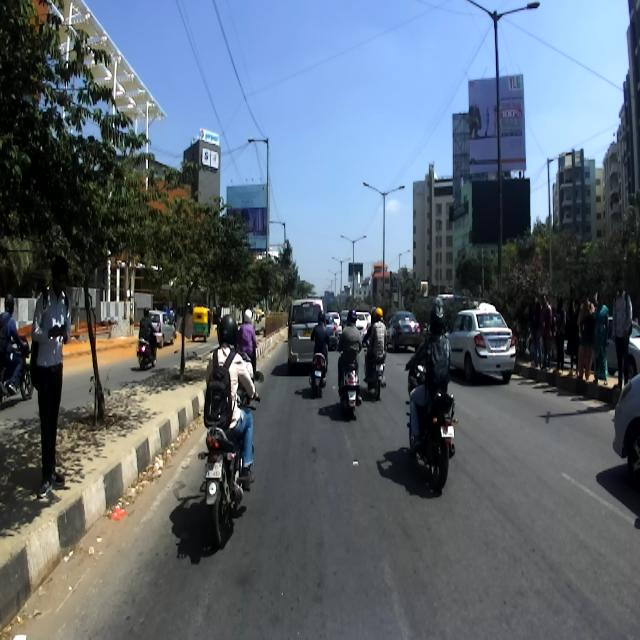motorcycle ahead at: (188, 421, 258, 566), (400, 386, 464, 496)
person ahead at: (24, 246, 80, 490)
